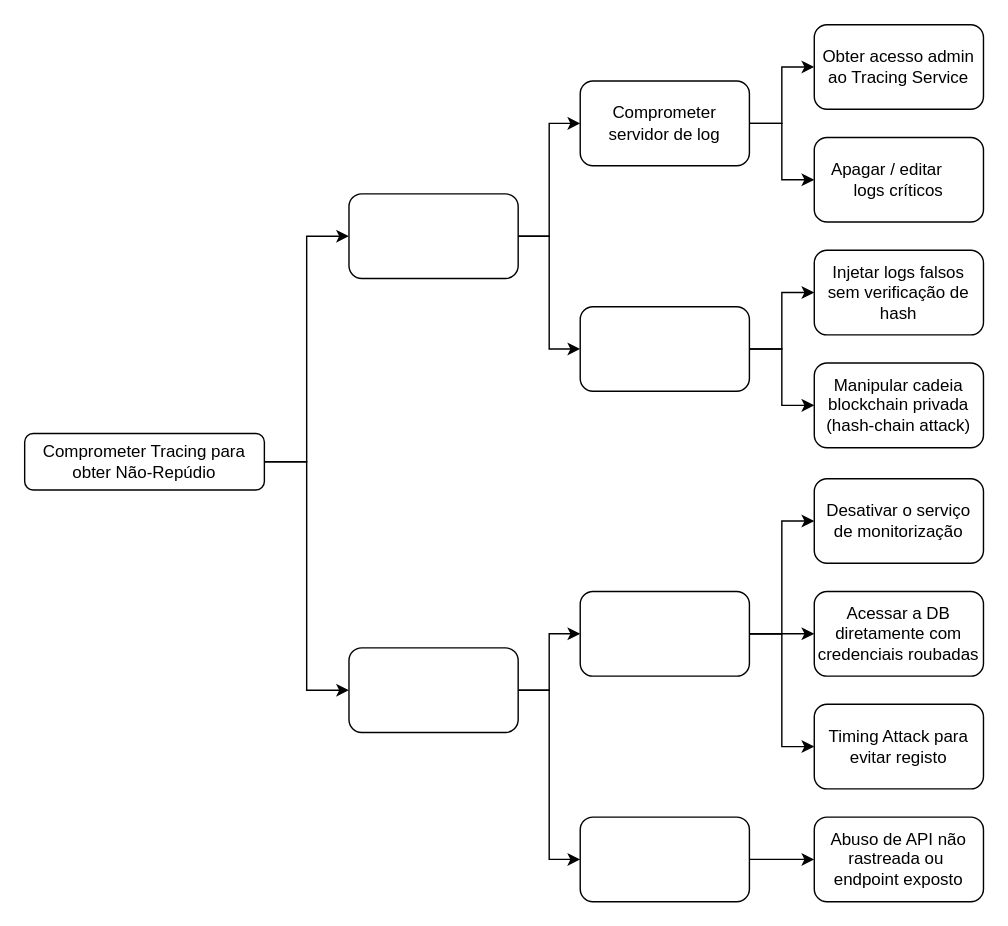
Some shapes in this 1008 by 926 pixel diagram are drawn without their labels. Each missing label, with the box of its shape:
Burlar mecanismo de rastreabilidade: (348, 646, 518, 732)
Desativar / Evitar monitorização: (579, 590, 749, 676)
Explorar falhas criptográficas do Tracing: (579, 305, 749, 391)
Injetar eventos não autenticados: (579, 816, 749, 902)
Modificar registos de log: (348, 192, 518, 278)
